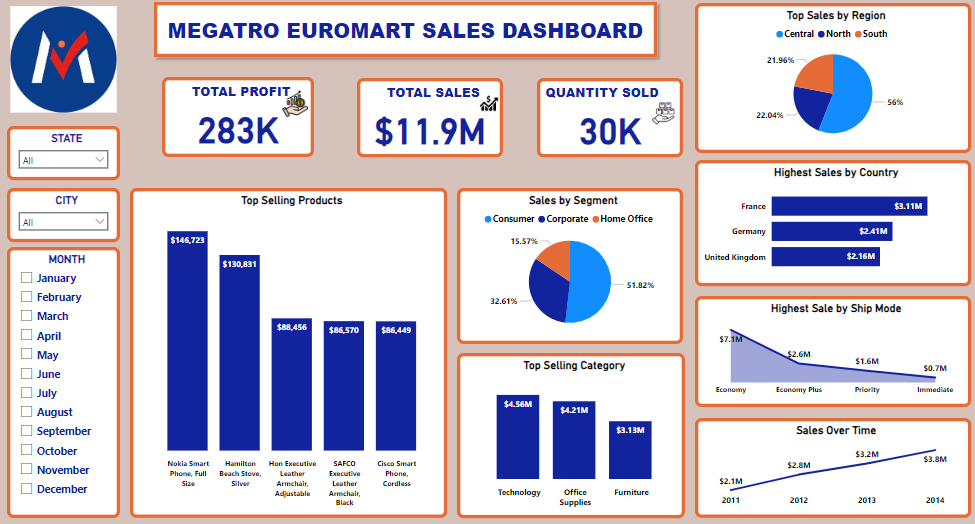

What the dashboard file says about the page in this screenshot:
{"tool":"powerbi","page":{"name":"Page 1","canvas":[1500,820],"ordinal":0},"visuals":[{"type":"pieChart","title":"Sales by Segment","fields":{"Category":["Order Data (Working Data).Segment"],"Y":["Sum(Order Data (Working Data).Total Sales)"]},"box":[708,308.6,341.9,236],"z":0},{"type":"clusteredBarChart","title":"Highest Sales by Country","fields":{"Y":["Sum(Order Data (Working Data).Total Sales)"],"Category":["Order Data (Working Data).Country"]},"box":[1068.1,266.3,417.6,190.6],"z":1000},{"type":"clusteredColumnChart","title":"Top Selling Products","fields":{"Y":["Sum(Order Data (Working Data).Total Sales)"],"Category":["Order Data (Working Data).Product Name"]},"box":[213.3,308.6,479.6,499.3],"z":2000},{"type":"clusteredColumnChart","title":"Top Selling Category","fields":{"Y":["Sum(Order Data (Working Data).Total Sales)"],"Category":["Order Data (Working Data).Category"]},"box":[708,558.3,344.9,249.6],"z":3000},{"type":"lineChart","title":"Sales Over Time","fields":{"Y":["Sum(Order Data (Working Data).Total Sales)"],"Category":["Order Data (Working Data).Order Date.Variation.Date Hierarchy.Year"]},"box":[1068.1,656.6,417.6,151.3],"z":4000},{"type":"areaChart","title":"Highest Sale by Ship Mode","fields":{"Y":["Sum(Order Data (Working Data).Total Sales)"],"Category":["Order Data (Working Data).Ship Mode"]},"box":[1068.1,472,417.6,167.9],"z":5000},{"type":"pieChart","title":"Top Sales by Region","fields":{"Y":["Sum(Order Data (Working Data).Total Sales)"],"Category":["Order Data (Working Data).Region"]},"box":[1068.1,28.7,417.6,226.9],"z":6000},{"type":"shape","box":[240.6,18.2,779.2,101.4],"z":7000},{"type":"card","title":"TOTAL SALES","fields":{"Values":["Sum(Order Data (Working Data).Total Sales)"]},"box":[556.8,142.2,220.9,119.5],"z":8000},{"type":"card","title":"TOTAL PROFIT","fields":{"Values":["Sum(Order Data (Working Data).Profit)"]},"box":[261.7,140.7,230,121],"z":9000},{"type":"card","title":"QUANTITY SOLD","fields":{"Values":["Sum(Order Data (Working Data).Quantity)"]},"box":[829.1,142.2,220.9,119.5],"z":10000},{"type":"image","box":[994,174,51.4,43.9],"z":10001},{"type":"image","box":[735.3,146.8,42.4,69.6],"z":10002},{"type":"image","box":[435.7,155.8,56,51.4],"z":10003},{"type":"slicer","title":"MONTH","fields":{"Values":["Order Data (Working Data).Order Date.Variation.Date Hierarchy.Month"]},"box":[27.4,398.4,171,409.7],"z":10004},{"type":"image","box":[27.4,11.3,171,206.5],"z":10005},{"type":"slicer","title":"CITY","fields":{"Values":["Order Data (Working Data).City"]},"box":[27.4,308.1,171,82.3],"z":10006},{"type":"slicer","title":"STATE","fields":{"Values":["Order Data (Working Data).State"]},"box":[27.4,214.5,171,82.3],"z":10007}]}

Visuals, with their boxes in screenshot pixels (x1, y1, x2, y2), scaled from the page's 1500x820 canvas onto the 975x524 screenshot:
"Sales by Segment" pieChart: x1=460, y1=197, x2=682, y2=348
"Highest Sales by Country" clusteredBarChart: x1=694, y1=170, x2=966, y2=292
"Top Selling Products" clusteredColumnChart: x1=139, y1=197, x2=450, y2=516
"Top Selling Category" clusteredColumnChart: x1=460, y1=357, x2=684, y2=516
"Sales Over Time" lineChart: x1=694, y1=420, x2=966, y2=516
"Highest Sale by Ship Mode" areaChart: x1=694, y1=302, x2=966, y2=409
"Top Sales by Region" pieChart: x1=694, y1=18, x2=966, y2=163
shape: x1=156, y1=12, x2=663, y2=76
"TOTAL SALES" card: x1=362, y1=91, x2=506, y2=167
"TOTAL PROFIT" card: x1=170, y1=90, x2=320, y2=167
"QUANTITY SOLD" card: x1=539, y1=91, x2=682, y2=167
image: x1=646, y1=111, x2=680, y2=139
image: x1=478, y1=94, x2=506, y2=138
image: x1=283, y1=100, x2=320, y2=132
"MONTH" slicer: x1=18, y1=255, x2=129, y2=516
image: x1=18, y1=7, x2=129, y2=139
"CITY" slicer: x1=18, y1=197, x2=129, y2=249
"STATE" slicer: x1=18, y1=137, x2=129, y2=190
